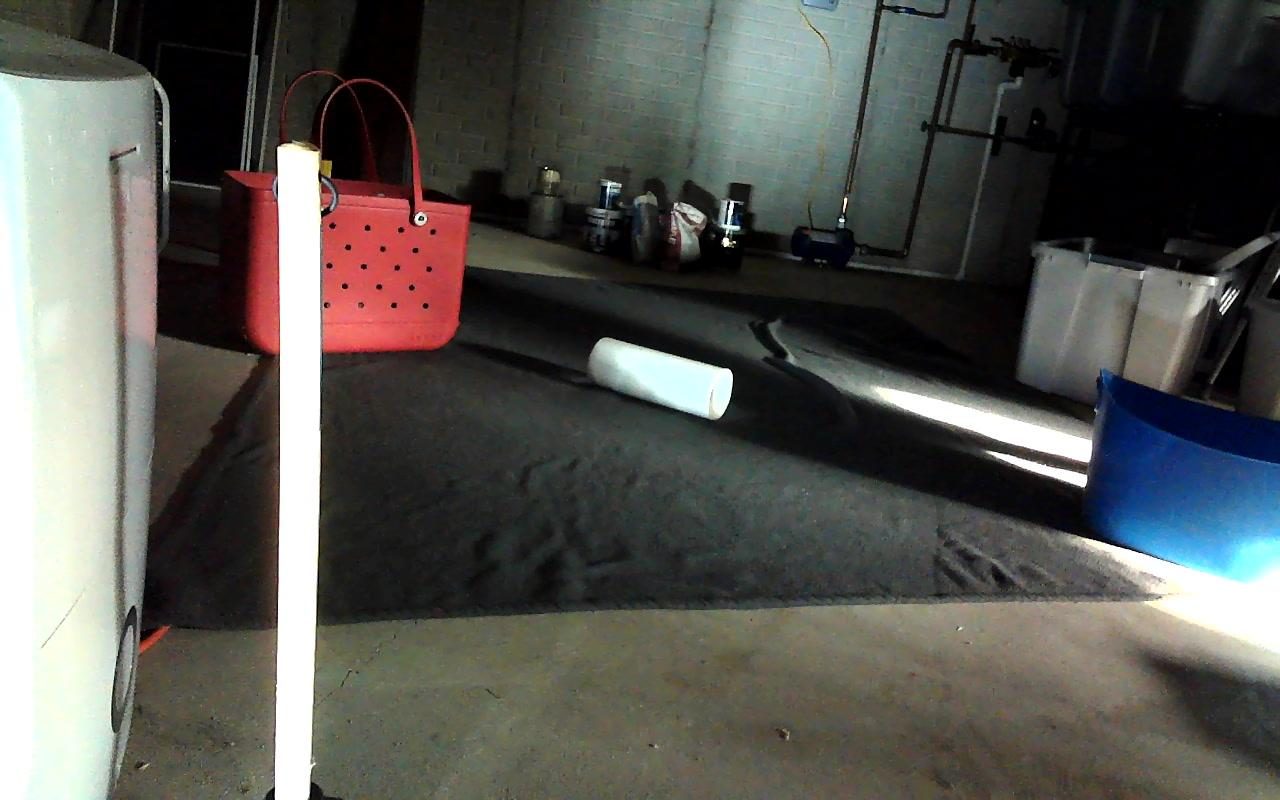coral: (589, 338, 732, 419)
